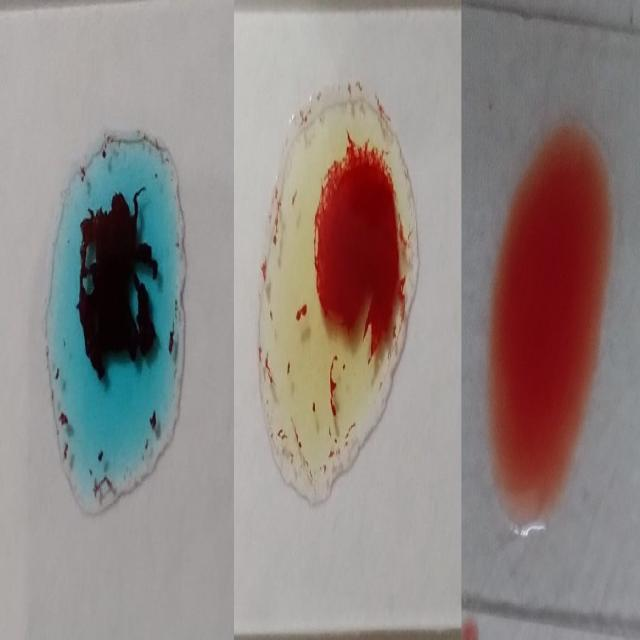A: (45, 133, 185, 500)
B: (269, 83, 416, 500)
